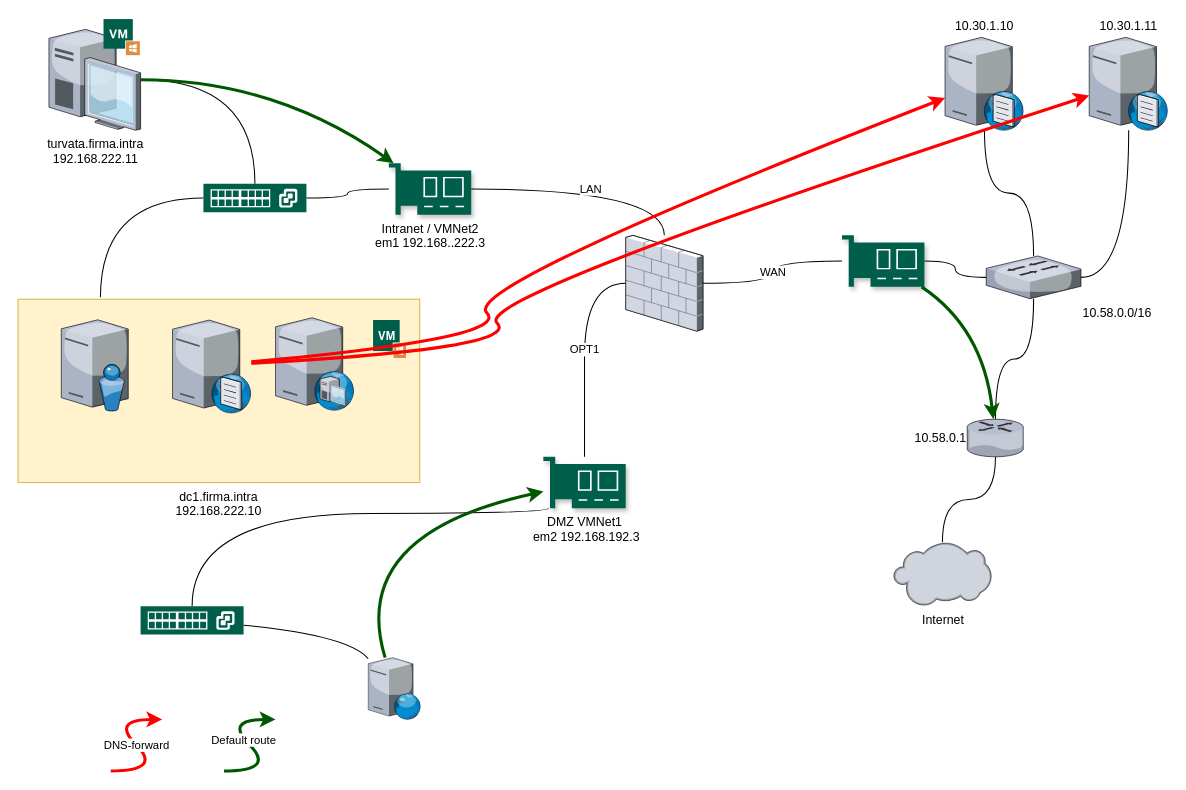
This 1186x790 diagram has some shape labels left out. Here are the shapes that lost their labels. From the top down, the centre of each, then its label:
At [254,197]: "VMWare VMNet2(intranet) 192.168.222.0/24".
At [884,262]: "VMWare Bridge em0 10.58.0.250".
At [663,283]: "OPNSense".
At [191,620]: "VMWare VMnet1 (DMZ) 192.168.192.0/24".
